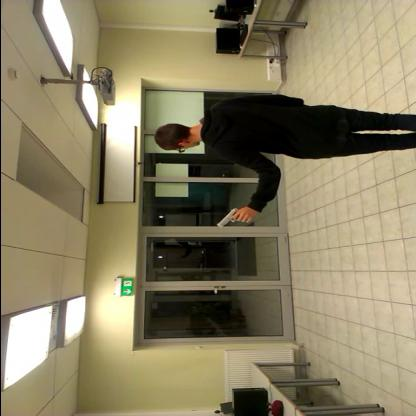Pistol: (211, 206, 256, 234)
